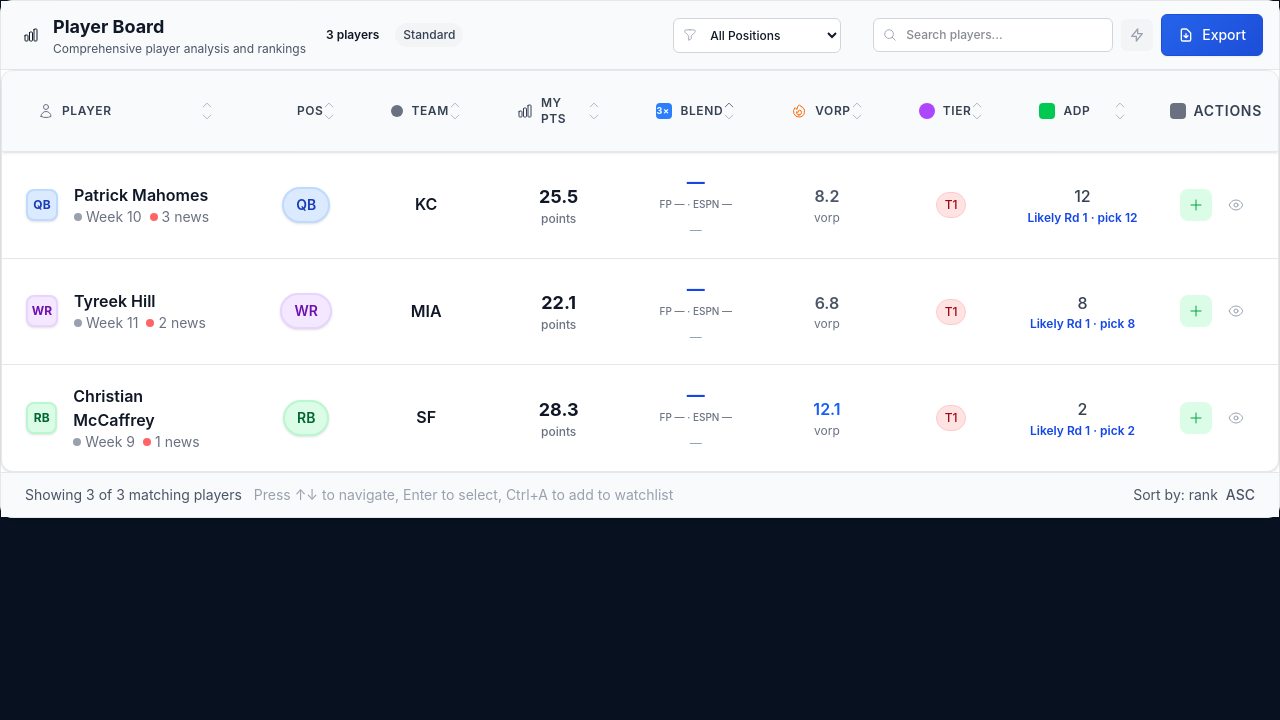
Test: PlayerBoard › Player Expansion › collapses player details when clicking expand button again
What coordinates should you click on to do the following:
click the button with test id "expand-button-1"
I would click on:
 (1236, 205)
Its box is [1220,189,1252,221].
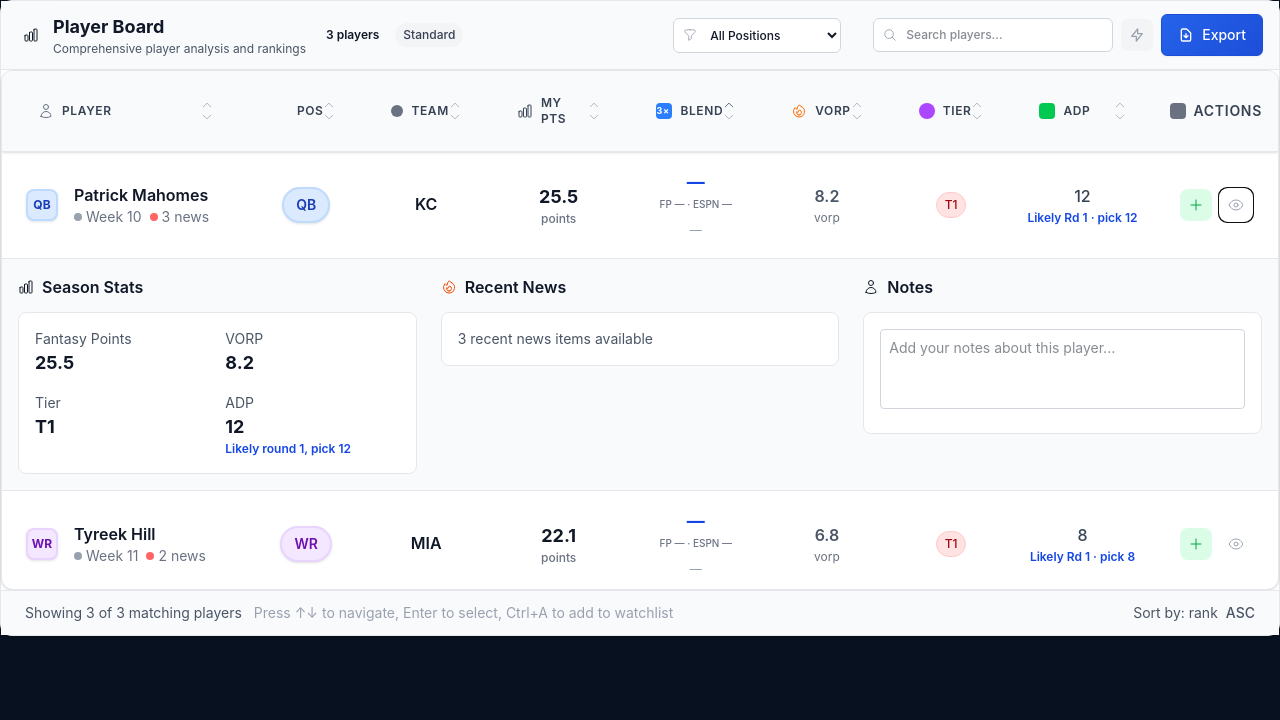
Result: the heading "Season Stats" is shown at [18,277,143,297]
Note: Click again to collapse
What coordinates should you click on to do the following:
click the button with test id "expand-button-1"
I would click on:
 (1236, 205)
Its box is [1220,189,1252,221].
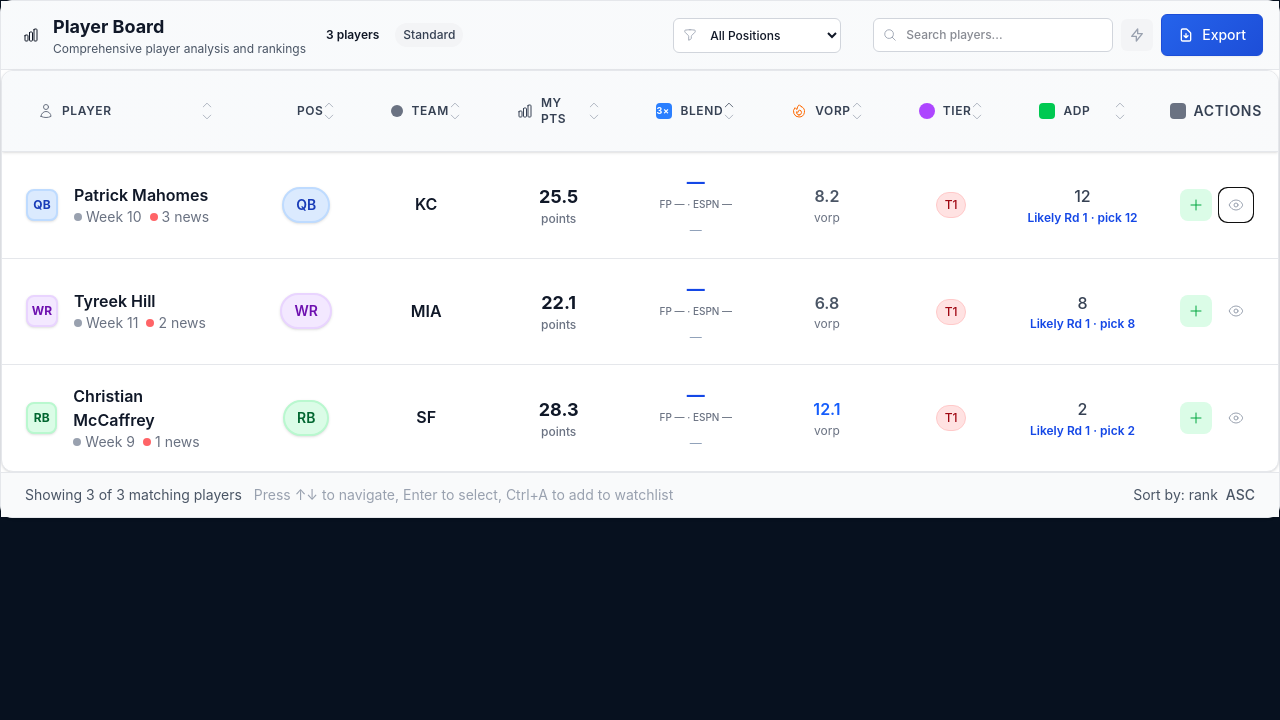
Result: the heading "Season Stats" is gone
